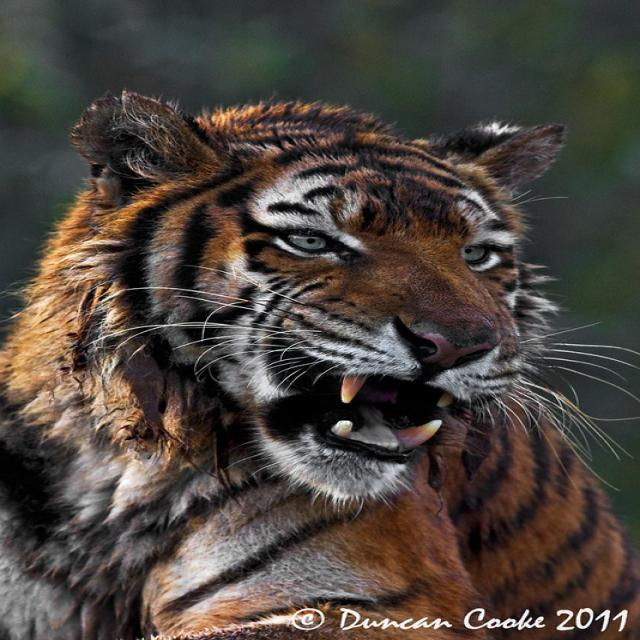Tiger: (2, 90, 639, 636)
